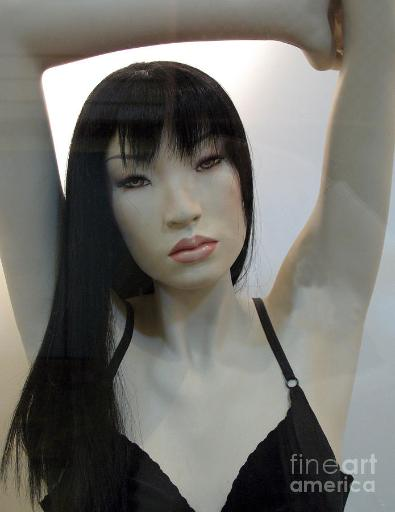left_eye: (196, 152, 226, 174)
left_lip_corner: (213, 236, 225, 249)
right_eye: (118, 174, 154, 194)
right_lip_corner: (164, 248, 176, 264)
